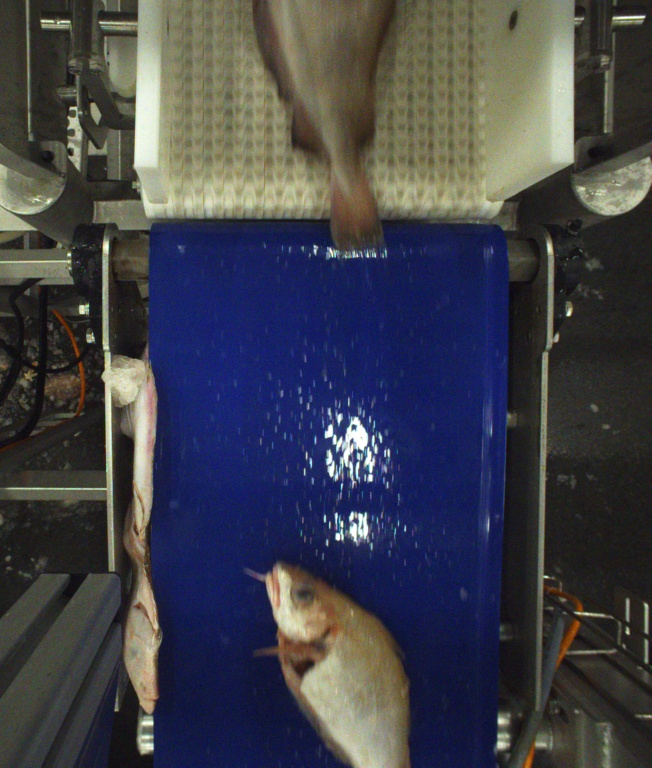BIB: (250, 0, 386, 246)
